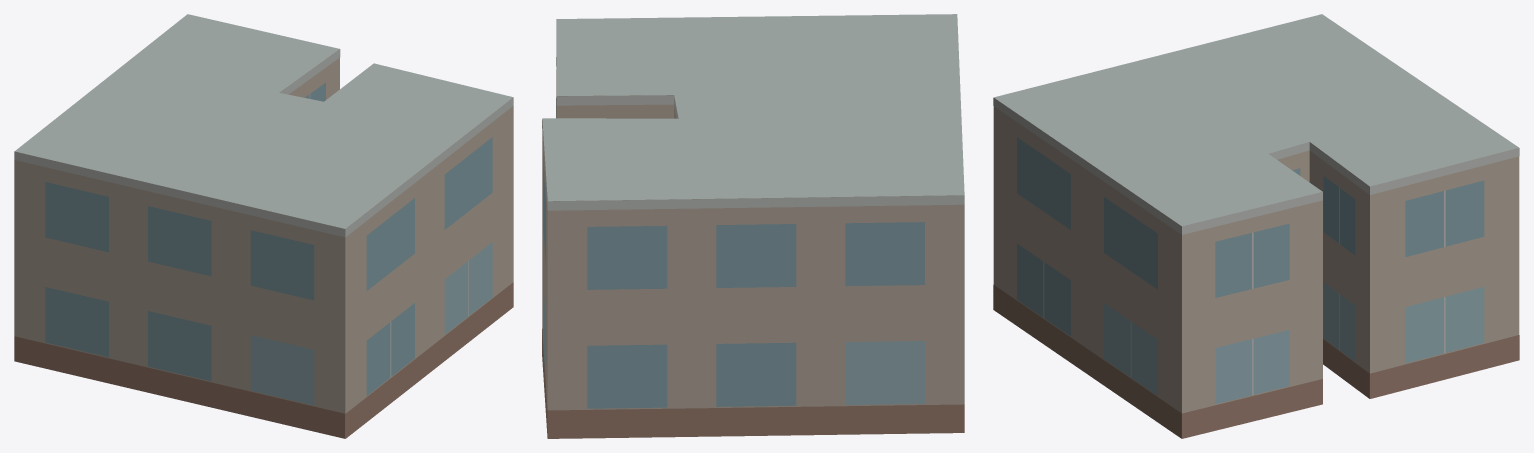
File: survey-upis-32974251.glb
3 views of the same model, side by side, from view 1: azimuth 30°, elevation 25°; view 2: azimuth 150°, elevation 25°; view 3: azimuth 270°, elevation 25° (orthographic). The views are drawn at different scales.
Visible parts, largest first — view 1: survey-upis-32974251.tmp; view 2: survey-upis-32974251.tmp; view 3: survey-upis-32974251.tmp.
Boxes of the visible parts, x1,y1,x2,y2 form: survey-upis-32974251.tmp: [14, 14, 513, 438]; survey-upis-32974251.tmp: [542, 14, 964, 438]; survey-upis-32974251.tmp: [993, 14, 1519, 438].
Bounding box in the file's own units: 13.09 × 6.1 × 13.69.
